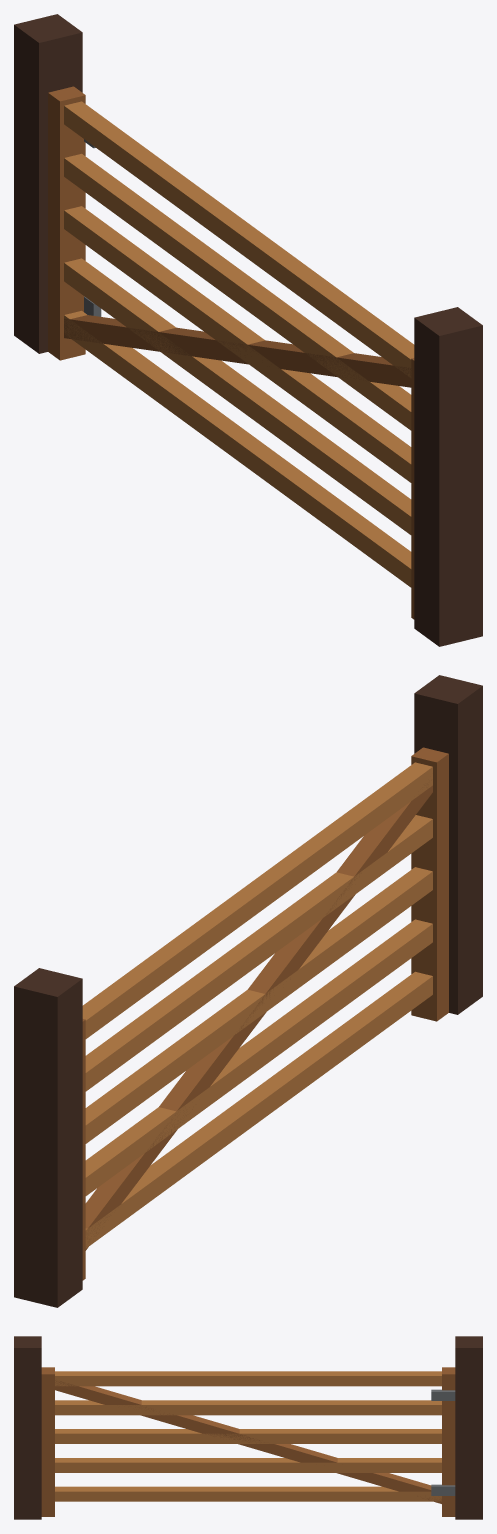
File: FieldGate__FiveBar.fbx
3 renders of one model, top to bottom at view 1: azimuth 30°, elevation 25°; view 2: azimuth 150°, elevation 25°; view 3: azimuth 270°, elevation 25°, orthographic. The views are drawn at different scales.
Visible parts, largest first — view 1: FieldGate__FiveBar; view 2: FieldGate__FiveBar; view 3: FieldGate__FiveBar.
Boxes of the visible parts, x1,y1,x2,y2 form: FieldGate__FiveBar: (14,14,482,646); FieldGate__FiveBar: (14,675,482,1307); FieldGate__FiveBar: (14,1336,482,1519).
Bounding box in the file's own units: 22 × 150 × 372.
1 material, 1 textured.
